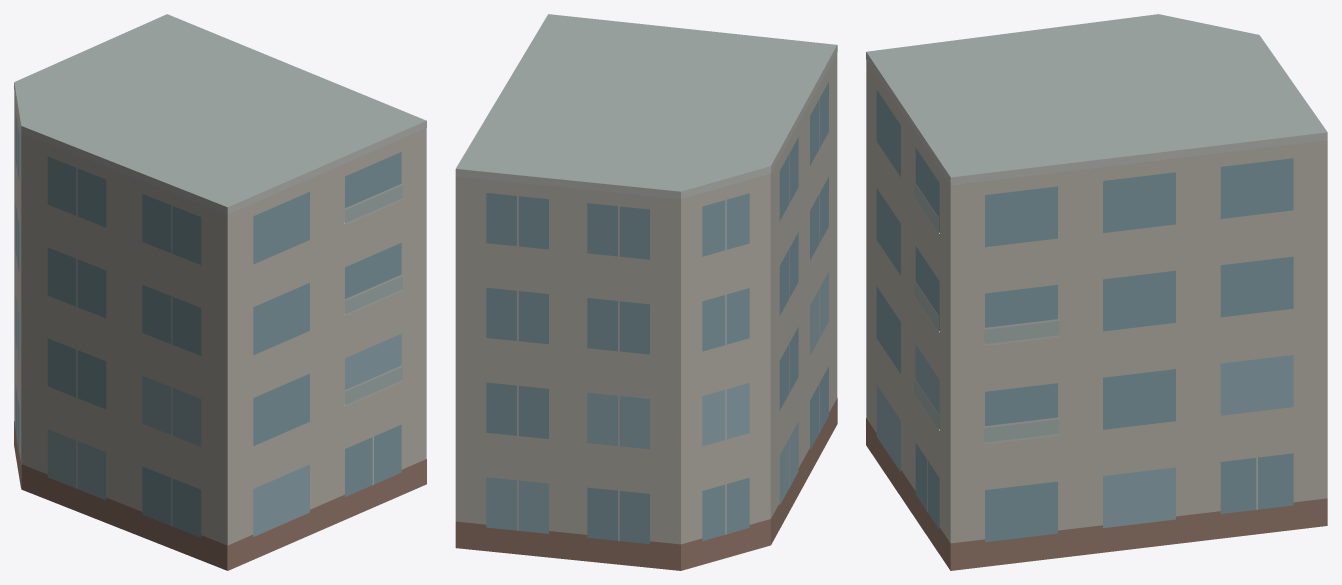
Rendered from survey-upis-32927162.glb.
3 views of the same model, side by side, from view 1: azimuth 30°, elevation 25°; view 2: azimuth 150°, elevation 25°; view 3: azimuth 270°, elevation 25° (orthographic). The views are drawn at different scales.
Parts seen in each view (by area): view 1: survey-upis-32927162.tmp; view 2: survey-upis-32927162.tmp; view 3: survey-upis-32927162.tmp.
Boxes of the visible parts, x1,y1,x2,y2 form: survey-upis-32927162.tmp: [14, 14, 426, 570]; survey-upis-32927162.tmp: [455, 14, 837, 570]; survey-upis-32927162.tmp: [866, 14, 1327, 570].
Size of the model in its own units: 10.97 by 12.3 by 13.09.
